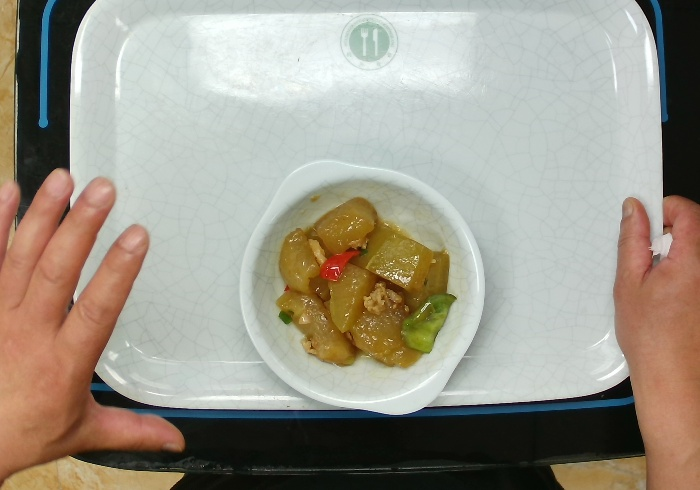JYsf-Shuang_Er_Wan: (237, 154, 486, 418)
